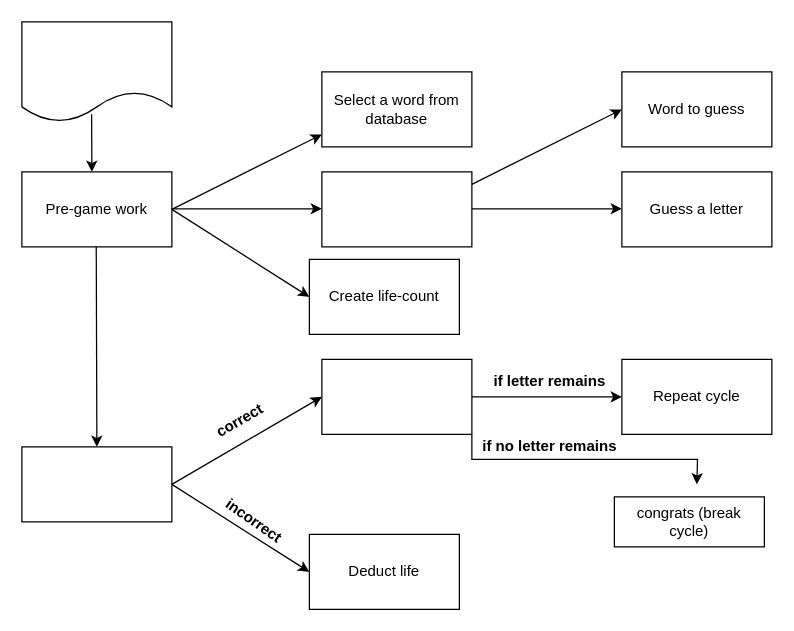
Image size: 794x631. Some labels were removed from this diagram. The shapes that lost their labels are listed below. From the top down, each one's box as (x1, y1, x2, y2) in pixels, then its label:
(21, 21, 172, 122): Start
(321, 171, 472, 247): Print instructions & info
(321, 358, 472, 434): Replace the blanks with the corresponding letter.
(21, 446, 172, 522): Cycle starts
